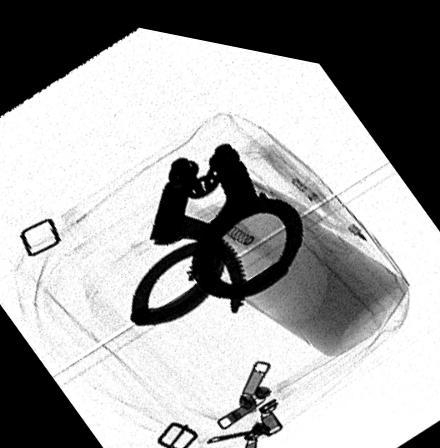HandCuffs: (128, 133, 303, 321)
